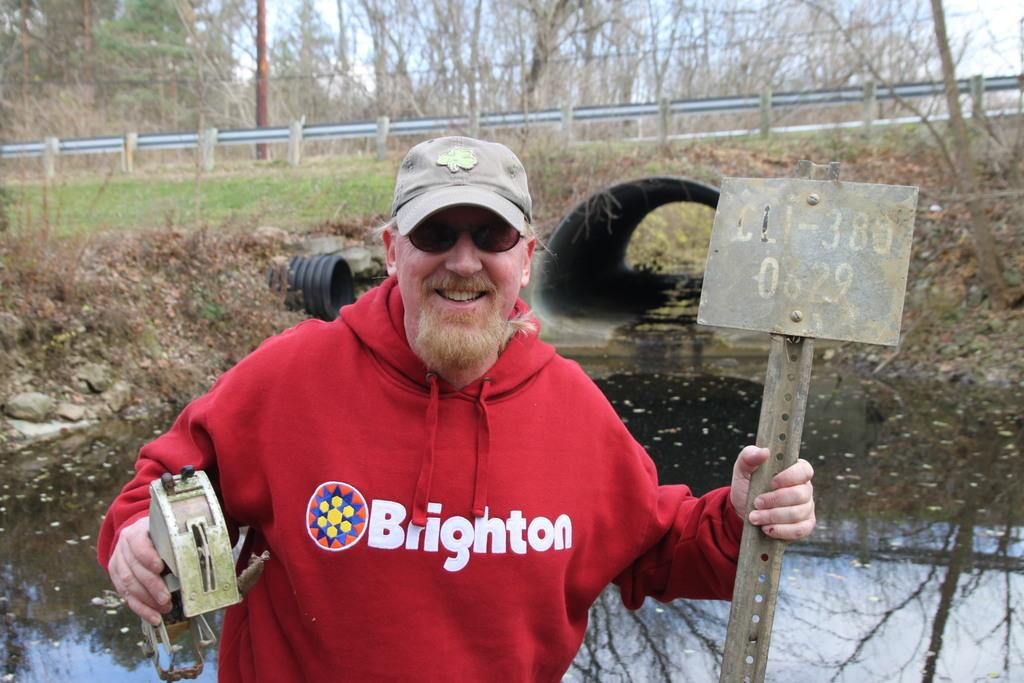Hat: (390, 132, 532, 233)
